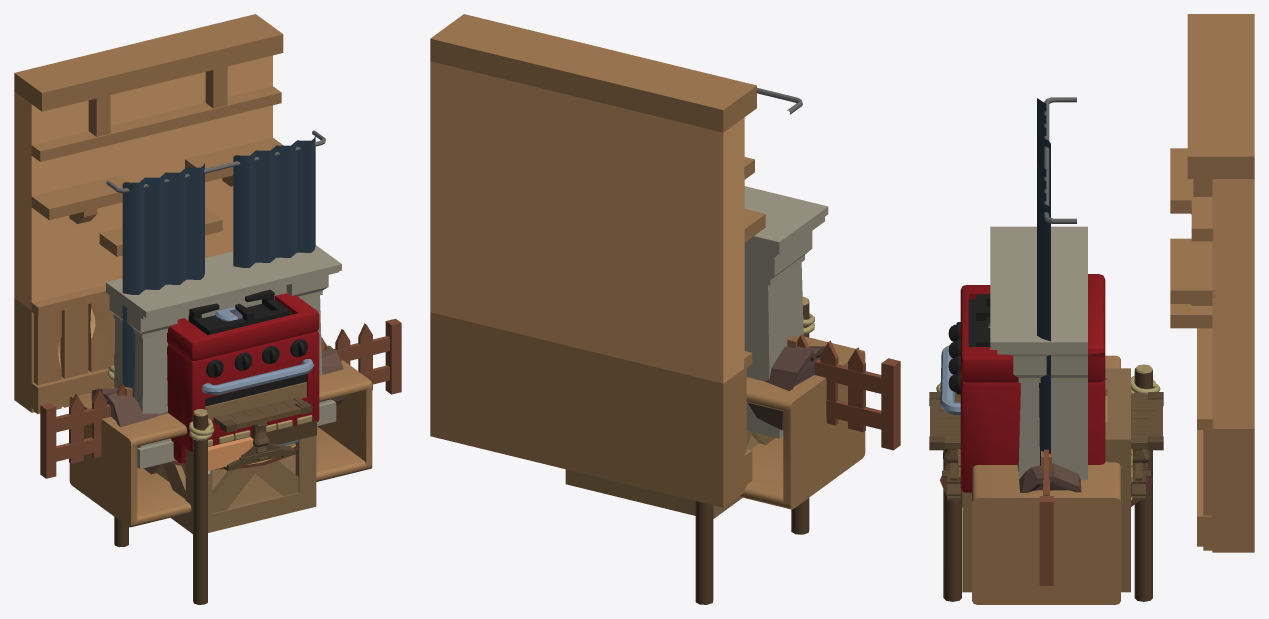
File: props.glb
The picture shows the model from 3 angles, left to right: view 1: azimuth 30°, elevation 25°; view 2: azimuth 150°, elevation 25°; view 3: azimuth 270°, elevation 25°; orthographic projection. The views are drawn at different scales.
Visible parts, largest first — view 1: Wall_Shelves, Curtains_Double, Environment_Oven, Fireplace, Environment_Cabinet_Shelves_2, Block_Crate, Fence2_Cube.024, Environment_Dock, Table, WoodLog, Table2, bedSingle; view 2: Wall_Shelves, Fireplace, Environment_Cabinet_Shelves_2, Fence2_Cube.024, Environment_Dock, Block_Crate, WoodLog; view 3: Wall_Shelves, Environment_Cabinet_Shelves_2, Fireplace, Environment_Oven, Environment_Dock, Block_Crate, Curtains_Double, Table, Fence2_Cube.024, WoodLog, Table2.
Boxes of the visible parts, box(x1,y1,x2,y2) form: Wall_Shelves: box(14, 14, 283, 413); Curtains_Double: box(106, 130, 325, 396); Environment_Oven: box(167, 289, 319, 463); Fireplace: box(106, 245, 341, 469); Environment_Cabinet_Shelves_2: box(69, 360, 372, 527); Block_Crate: box(143, 382, 316, 533); Fence2_Cube.024: box(40, 318, 401, 478); Environment_Dock: box(107, 354, 316, 604); Table: box(213, 397, 312, 470); WoodLog: box(91, 345, 345, 447); Table2: box(214, 398, 299, 468); bedSingle: box(208, 441, 236, 473); Wall_Shelves: box(430, 14, 765, 507); Fireplace: box(744, 186, 828, 438); Environment_Cabinet_Shelves_2: box(739, 336, 865, 509); Fence2_Cube.024: box(797, 334, 900, 450); Environment_Dock: box(695, 296, 814, 604); Block_Crate: box(565, 431, 775, 518); WoodLog: box(748, 346, 825, 430); Wall_Shelves: box(1170, 14, 1254, 552); Environment_Cabinet_Shelves_2: box(972, 355, 1120, 604); Fireplace: box(990, 226, 1087, 479); Environment_Oven: box(940, 274, 1105, 492); Environment_Dock: box(936, 364, 1160, 601); Block_Crate: box(962, 368, 1130, 592); Curtains_Double: box(1037, 97, 1076, 465); Table: box(929, 392, 1163, 500); Fence2_Cube.024: box(1039, 449, 1053, 585); WoodLog: box(1017, 463, 1081, 492); Table2: box(930, 393, 1162, 495).
Bounding box in the file's own units: 5.89 × 7.17 × 3.86.
63 materials, 5 textured.
